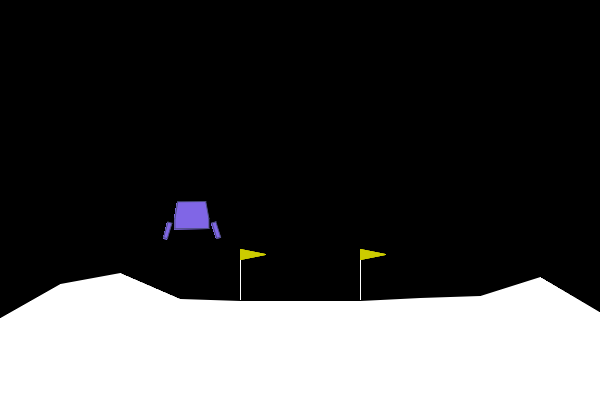lander: (161, 200, 222, 240)
